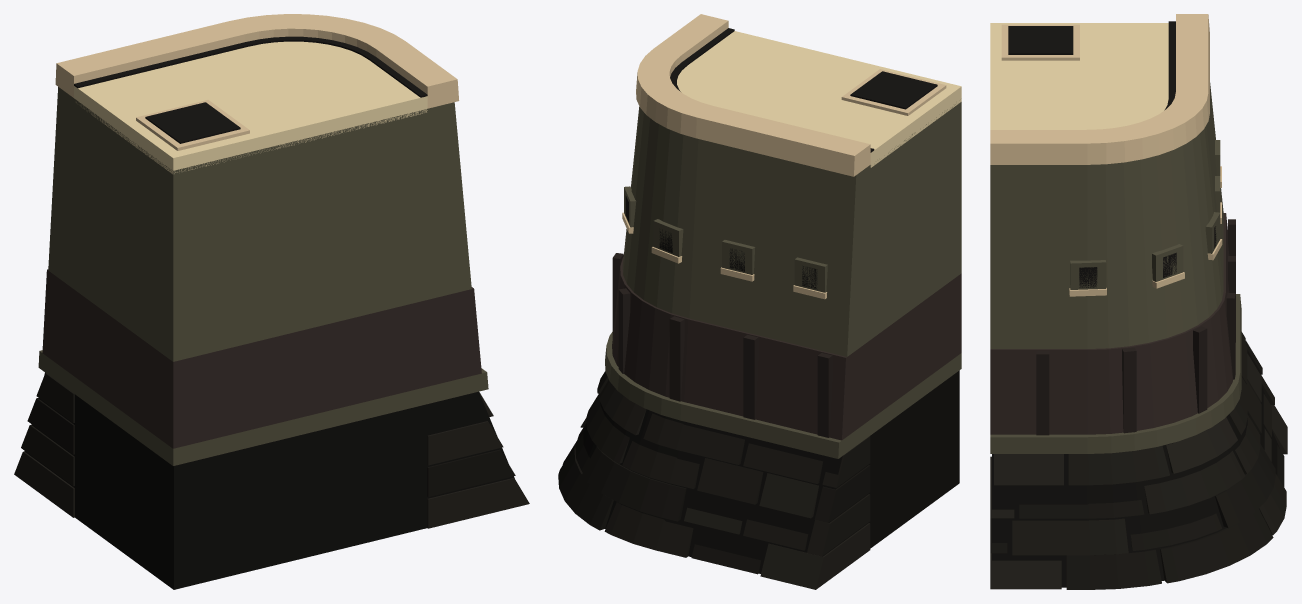
Rendered from VerTow03.glb.
The picture shows the model from 3 angles, left to right: view 1: azimuth 30°, elevation 25°; view 2: azimuth 150°, elevation 25°; view 3: azimuth 270°, elevation 25°; orthographic projection. The views are drawn at different scales.
Parts seen in each view (by area): view 1: VerTow03_mortar; view 2: VerTow03_mortar; view 3: VerTow03_mortar.
Part boxes in pixels (bbox=[...]): VerTow03_mortar: bbox=[14, 14, 529, 589]; VerTow03_mortar: bbox=[558, 14, 961, 589]; VerTow03_mortar: bbox=[990, 14, 1287, 589].
Bounding box in the file's own units: 4.75 × 5.6 × 3.65.
